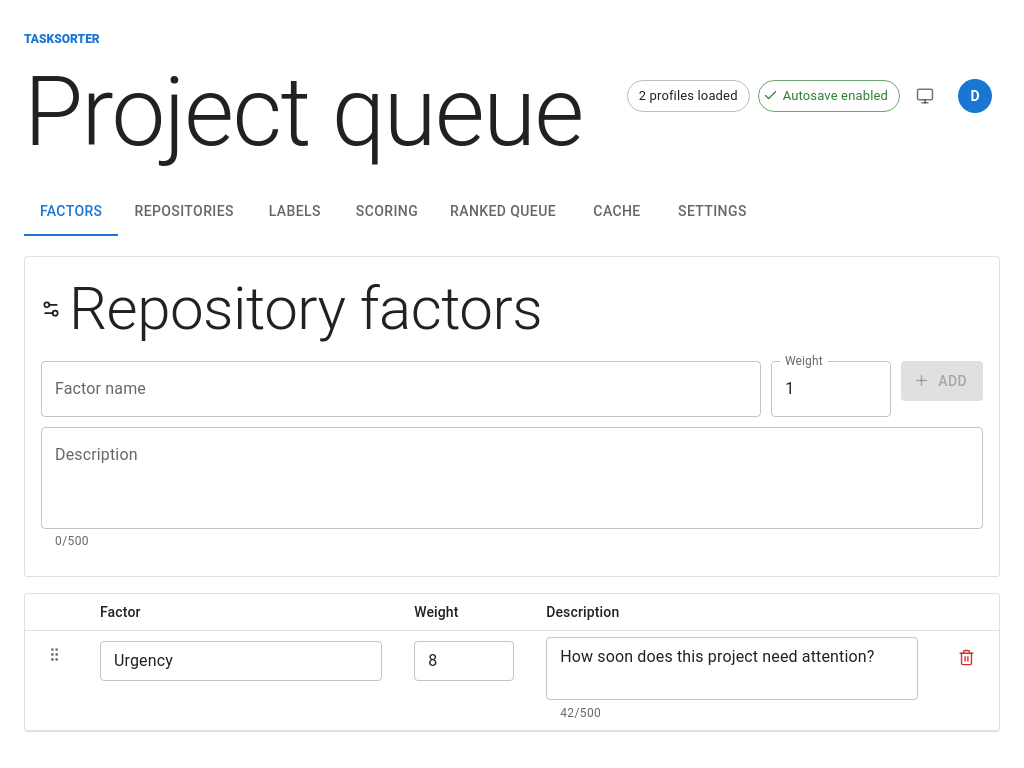
Test: App › clears labels after discovery when no repositories are configured
Check: the text "Autosave enabled" is shown, box [783, 88, 888, 103]
Step 1. Click the tab "Labels" → coordinates (295, 212), box [250, 188, 340, 236]
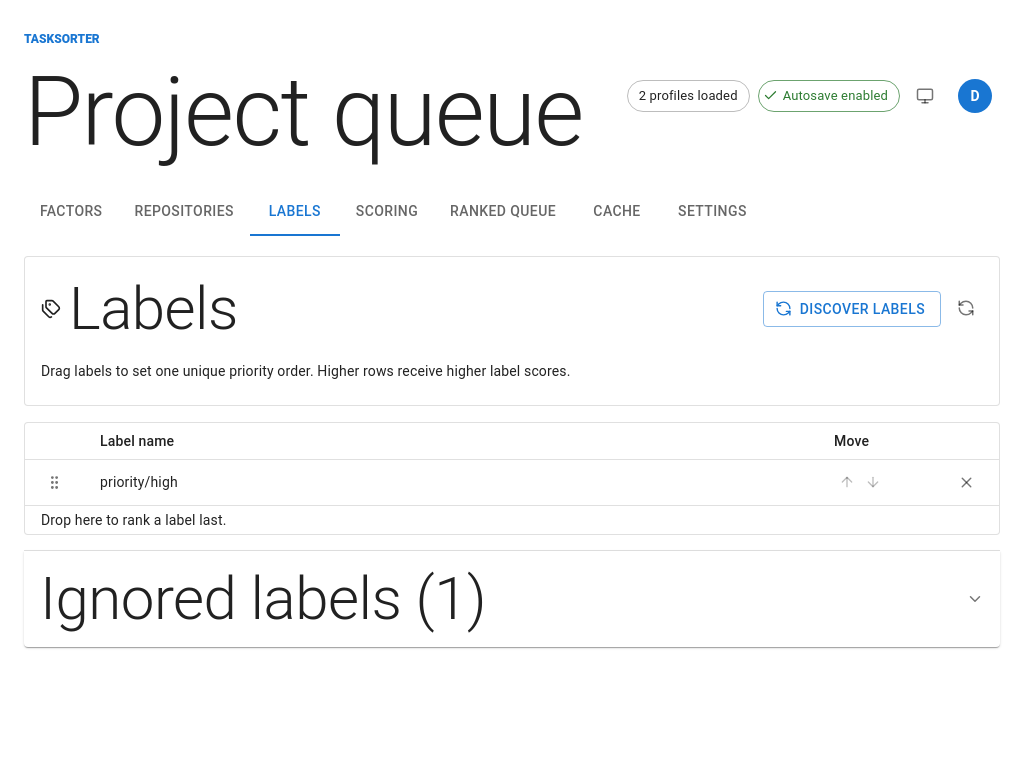
Check: the text "priority/high" is shown, box [84, 460, 818, 506]
Step 2. Click the button "Discover labels" → coordinates (852, 309), box [763, 291, 941, 327]
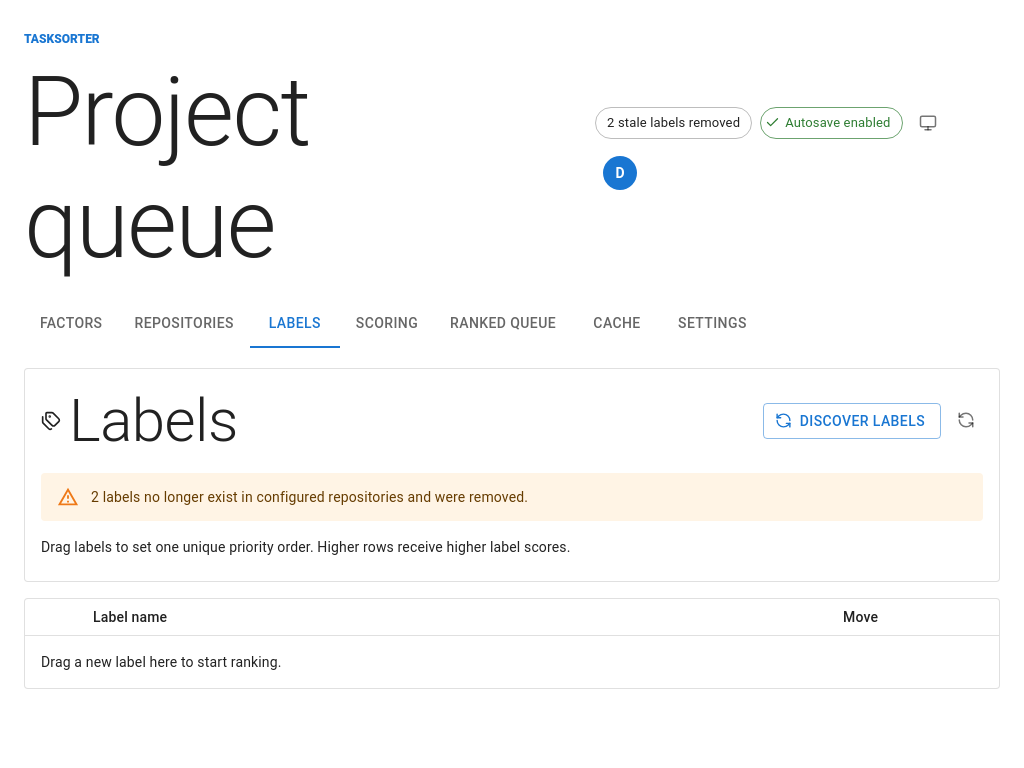
Check: the text "2 stale labels removed" is shown, box [596, 113, 751, 133]
Check: the text "priority/high" is gone
